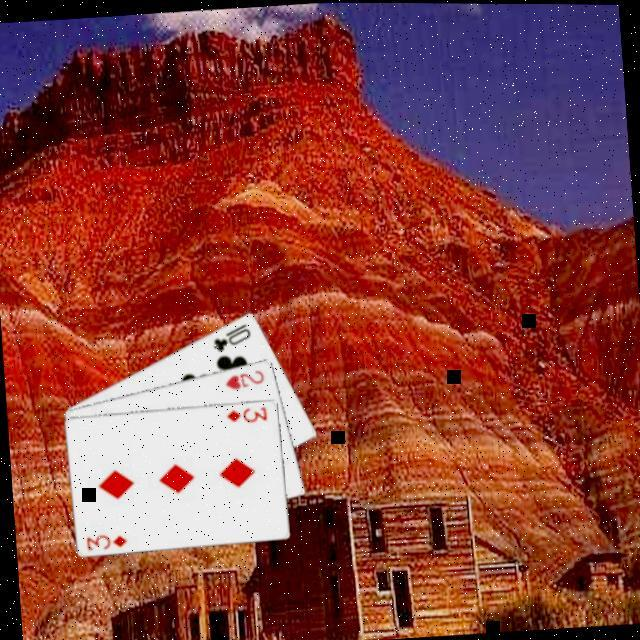10C: (205, 317, 253, 352)
2H: (219, 363, 267, 390)
3D: (220, 400, 268, 424), (81, 527, 128, 551)
